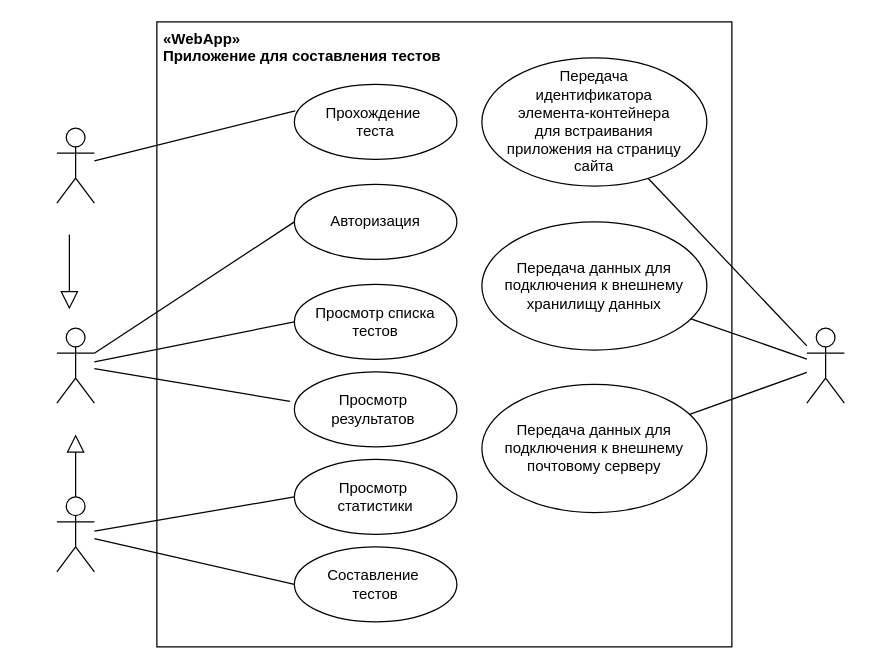
The diagram is 890 pixels wide and 669 high, and some of its shapes have lost their labels. Each missing label, with the centre of its shape:
"Пользователь" belongs at (x=75, y=365).
"Преподаватель" belongs at (x=75, y=534).
"Разработчик сайта" belongs at (x=825, y=365).
"Ученик" belongs at (x=75, y=165).
